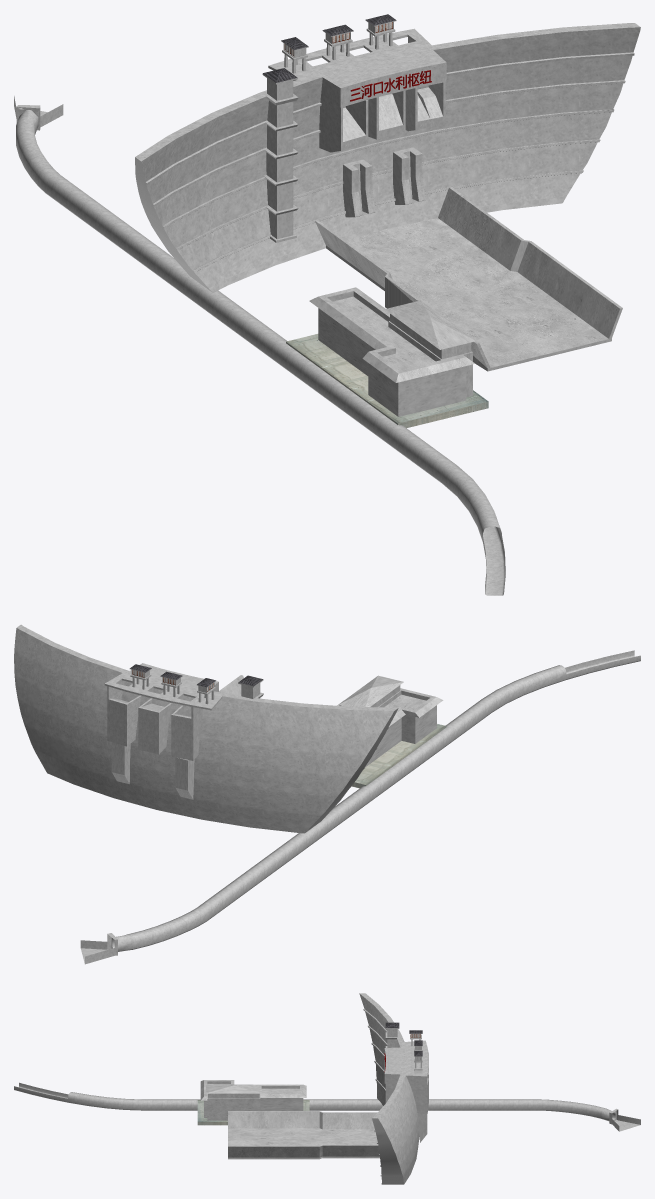
File: daba_sanhekou.obj
3 views of the same model, one above another, from view 1: azimuth 30°, elevation 25°; view 2: azimuth 150°, elevation 25°; view 3: azimuth 270°, elevation 25° (orthographic). The views are drawn at different scales.
Visible parts, largest first — view 1: Rectangle012, Rectangle013, Line038, Line037, Box011, Box023, Rectangle014, object 10, Line032, object 16, Line030, Line031 (+3 smaller); view 2: Rectangle012, Line038, Line037, object 16, object 1, object 10, Line032, Box023, Rectangle014, Box013, Box012; view 3: Rectangle013, Line038, Rectangle012, Rectangle014, Line037, object 16, Line032, Line031, Box023.
Boxes of the visible parts, <box> form: Rectangle012: <box>135,23,640,292</box>; Rectangle013: <box>315,187,622,371</box>; Line038: <box>14,96,505,595</box>; Line037: <box>309,287,475,416</box>; Box011: <box>262,73,298,242</box>; Box023: <box>286,334,488,428</box>; Rectangle014: <box>384,300,475,397</box>; object 10: <box>293,60,368,152</box>; Line032: <box>268,28,431,80</box>; object 16: <box>405,29,445,131</box>; Line030: <box>339,61,446,107</box>; Line031: <box>322,51,446,90</box>; Rectangle012: <box>14,624,398,833</box>; Line038: <box>80,650,640,964</box>; Line037: <box>365,688,443,767</box>; object 16: <box>107,670,141,746</box>; object 1: <box>138,698,171,754</box>; object 10: <box>171,684,217,760</box>; Line032: <box>104,673,222,710</box>; Box023: <box>351,724,446,788</box>; Rectangle014: <box>338,675,403,707</box>; Box013: <box>175,757,194,799</box>; Box012: <box>111,742,130,784</box>; Rectangle013: <box>228,1111,379,1159</box>; Line038: <box>14,1082,640,1131</box>; Rectangle012: <box>359,993,419,1184</box>; Rectangle014: <box>206,1084,261,1120</box>; Line037: <box>200,1080,306,1117</box>; object 16: <box>385,1073,428,1114</box>; Line032: <box>404,1040,428,1077</box>; Line031: <box>384,1047,401,1075</box>; Box023: <box>197,1100,309,1125</box>.
Bounding box in the file's own units: 4855 × 1959 × 10291.
Materials: 5 (4 with a texture image).
